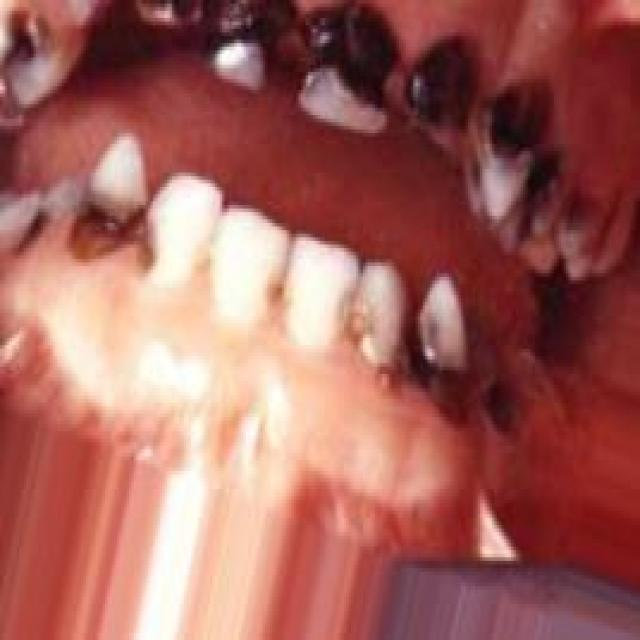caries: (60, 130, 163, 281), (294, 0, 396, 137), (409, 274, 478, 438), (470, 66, 547, 210), (0, 0, 89, 119), (403, 25, 482, 143), (201, 0, 289, 97), (348, 265, 408, 400), (514, 138, 574, 255), (482, 358, 530, 462)
